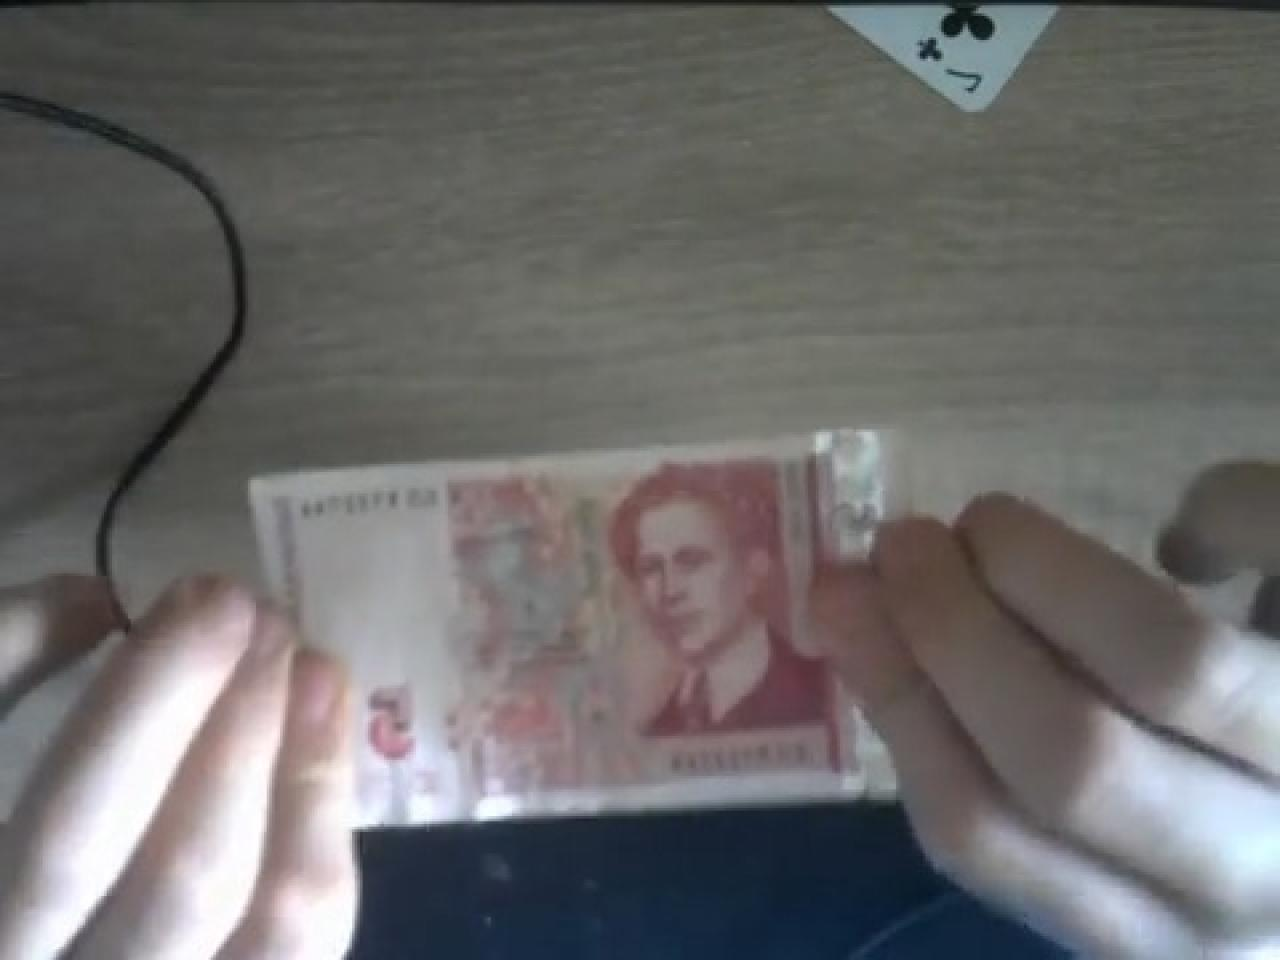5leva: (259, 432, 875, 821)
